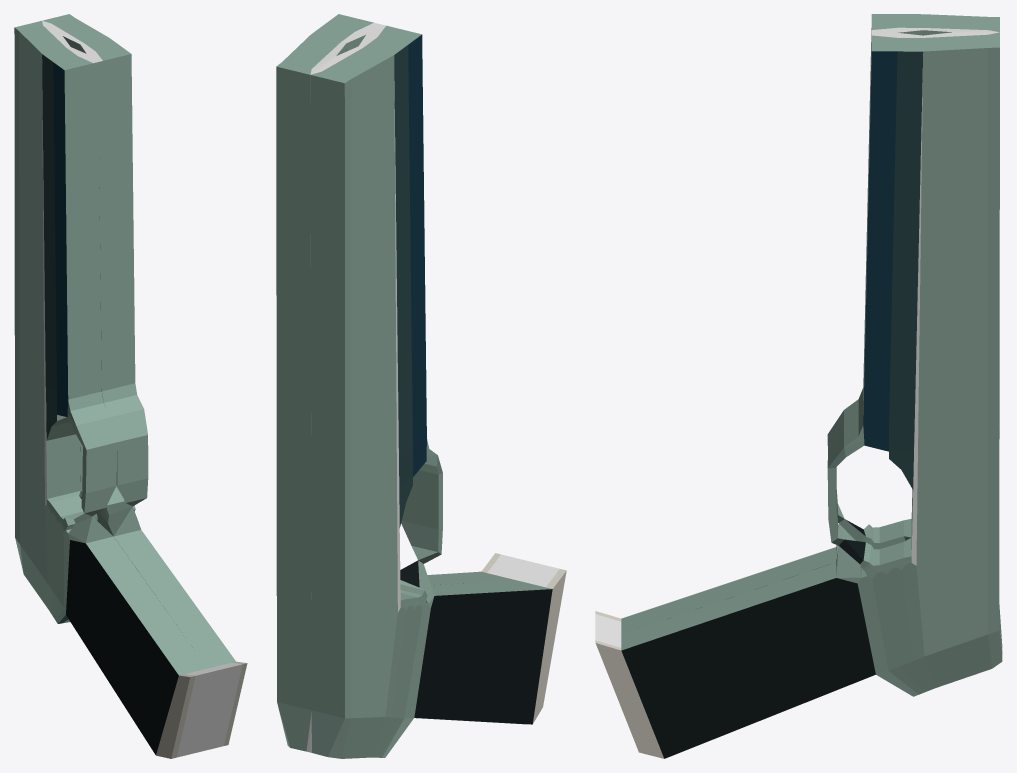
The model's file is gun2_redesigned.fbx.
The picture shows the model from 3 angles, left to right: view 1: azimuth 30°, elevation 25°; view 2: azimuth 150°, elevation 25°; view 3: azimuth 270°, elevation 25°; orthographic projection. The views are drawn at different scales.
Visible parts, largest first — view 1: Cube; view 2: Cube; view 3: Cube.
Boxes of the visible parts, <box> form: Cube: <box>14,14,247,758</box>; Cube: <box>276,14,566,758</box>; Cube: <box>595,14,1002,758</box>.
Size of the model in its own units: 28.25 by 245 by 127.
